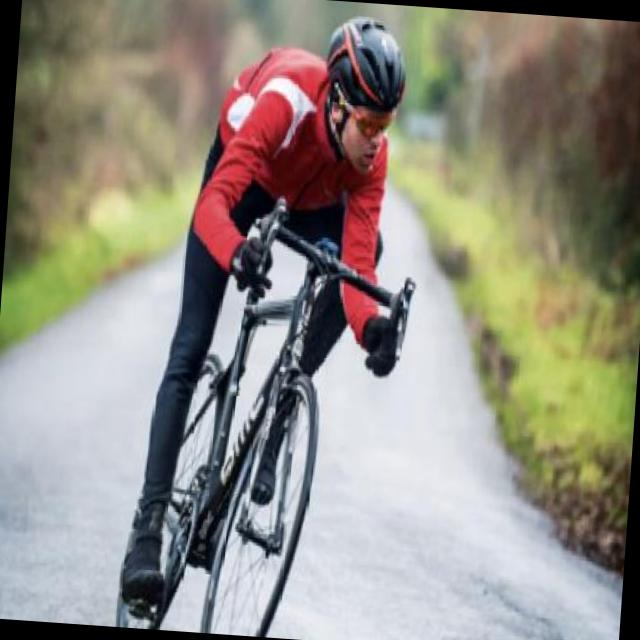With Helmet: (314, 4, 412, 188)
